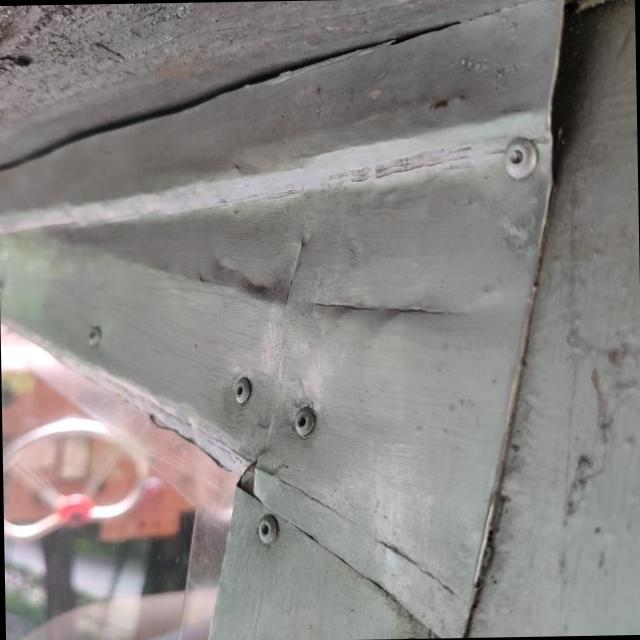Scratch: (287, 251, 476, 334)
